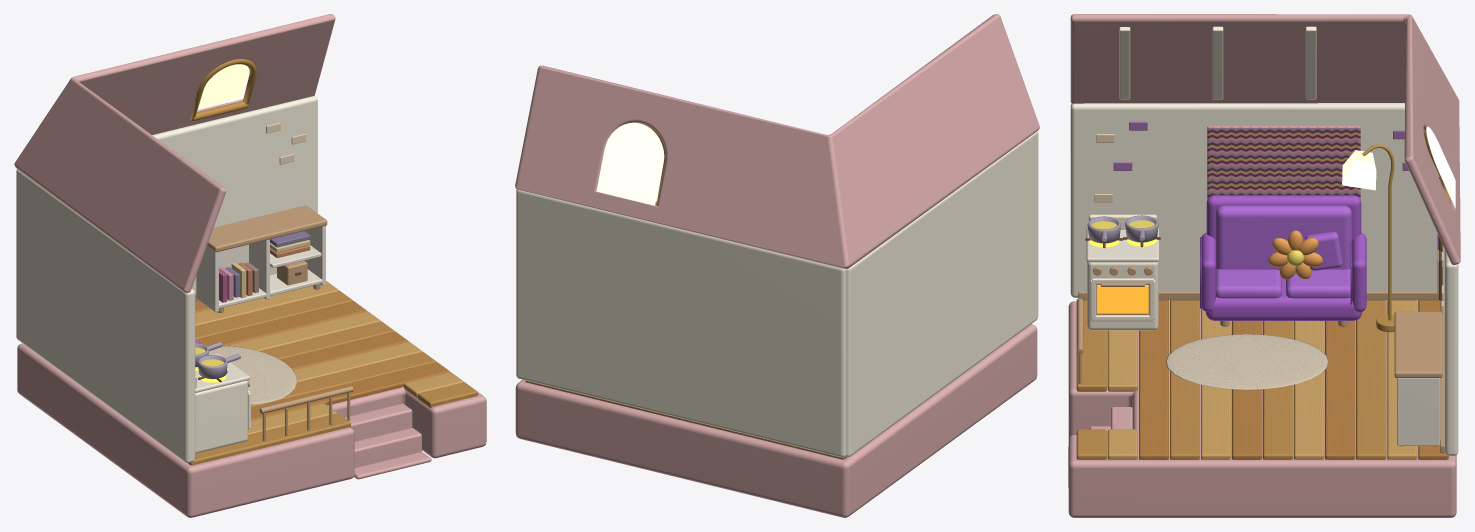
Rendered from room_furnished_nest.glb.
3 renders of one model, left to right at view 1: azimuth 30°, elevation 25°; view 2: azimuth 150°, elevation 25°; view 3: azimuth 270°, elevation 25°, orthographic. The views are drawn at different scales.
Parts seen in each view (by area): view 1: Planar mitered rose roof, Left soft clay wall, Rounded pink platform with stair recess, Rear soft clay wall, Stove enamel body, Bookcase honey top, Oval ivory rug, Honey floor plank 02-0, Honey floor plank 00-0, Honey floor plank 08-0, Honey floor plank 09-0, Honey floor plank 03-0 (+21 smaller); view 2: Planar mitered rose roof, Rear soft clay wall, Left soft clay wall, Rounded pink platform with stair recess, Luminous arched window pane, Honey floor plank 11-0; view 3: Planar mitered rose roof, Left soft clay wall, Rounded pink platform with stair recess, Woven wall hanging, Oval ivory rug, Sofa back cushion, Honey floor plank 09-0, Honey floor plank 08-0, Honey floor plank 02-0, Honey floor plank 03-0, Sofa lower body, Bookcase honey top (+32 smaller).
Boxes of the visible parts, x1,y1,x2,y2 form: Planar mitered rose roof: [14, 14, 335, 292]; Left soft clay wall: [16, 169, 195, 463]; Rounded pink platform with stair recess: [17, 290, 486, 517]; Rear soft clay wall: [152, 96, 317, 292]; Stove enamel body: [195, 380, 247, 453]; Bookcase honey top: [207, 205, 327, 252]; Oval ivory rug: [208, 346, 297, 404]; Honey floor plank 02-0: [251, 362, 449, 420]; Honey floor plank 00-0: [188, 413, 350, 465]; Honey floor plank 08-0: [196, 301, 366, 346]; Honey floor plank 09-0: [195, 291, 352, 339]; Honey floor plank 03-0: [251, 352, 435, 407]; Planar mitered rose roof: [515, 14, 1039, 268]; Rear soft clay wall: [516, 189, 846, 457]; Left soft clay wall: [846, 131, 1038, 457]; Rounded pink platform with stair recess: [515, 324, 1037, 517]; Luminous arched window pane: [596, 122, 663, 205]; Honey floor plank 11-0: [525, 380, 847, 459]; Planar mitered rose roof: [1070, 14, 1460, 264]; Left soft clay wall: [1070, 103, 1444, 297]; Rounded pink platform with stair recess: [1068, 301, 1456, 517]; Woven wall hanging: [1207, 126, 1360, 199]; Oval ivory rug: [1165, 334, 1328, 389]; Sofa back cushion: [1216, 205, 1351, 270]; Honey floor plank 09-0: [1356, 300, 1386, 459]; Honey floor plank 08-0: [1325, 320, 1355, 459]; Honey floor plank 02-0: [1139, 300, 1168, 459]; Honey floor plank 03-0: [1170, 300, 1199, 459]; Sofa lower body: [1205, 278, 1362, 320]; Bookcase honey top: [1394, 311, 1442, 378].
Size of the model in its own units: 10.09 by 10.31 by 10.12.
Materials: 34 (5 with a texture image).
